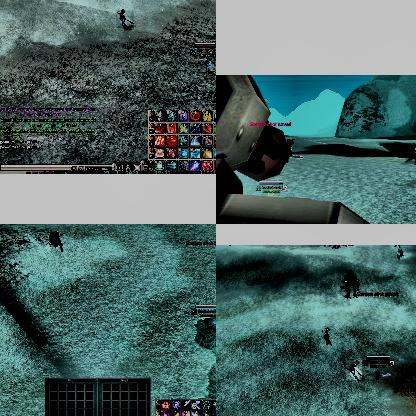caliana: (116, 10, 134, 28), (346, 360, 362, 380), (405, 146, 416, 163), (322, 326, 332, 344)
